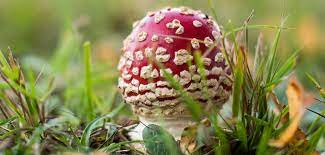Amanita muscaria: (111, 3, 233, 129)
